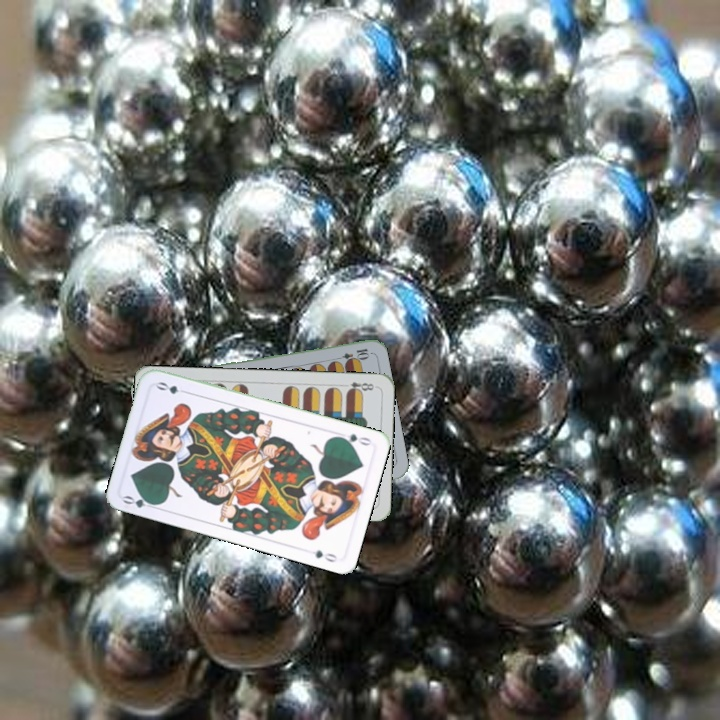E10: (331, 344, 372, 364)
E8: (338, 378, 378, 395)
GO: (119, 491, 160, 512), (334, 429, 373, 448)
